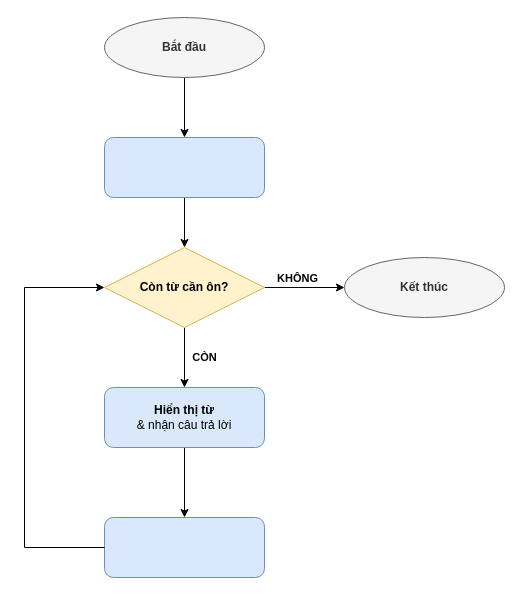
The diagram is 522 pixels wide and 595 high, and some of its shapes have lost their labels. The box of each missing label's shape, as (x1, y1, x2, y2) in pixels:
Cập nhật lịch ôn (đúng/sai): (104, 516, 264, 578)
Lọc từ đến hạn ôn hôm nay: (104, 136, 264, 198)
